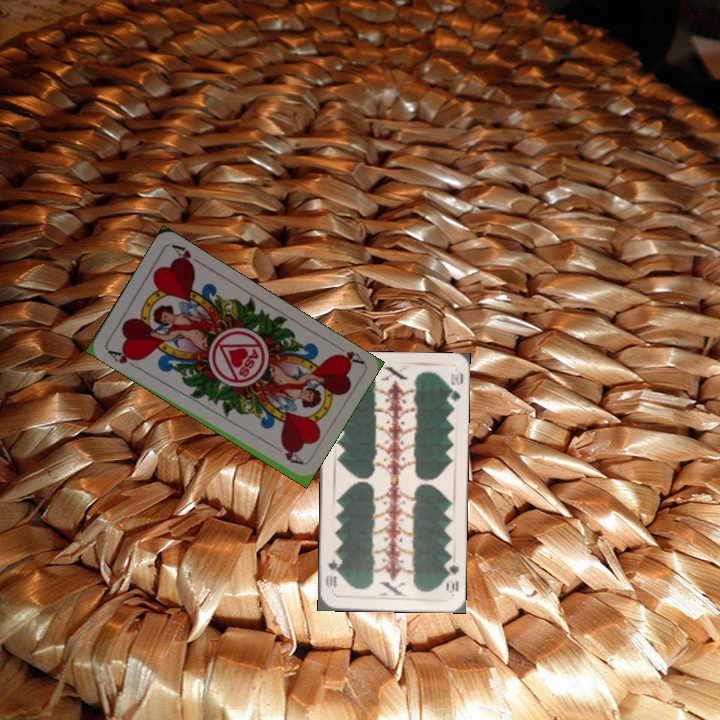G10: (442, 556, 461, 595)
HA: (329, 339, 366, 368), (103, 346, 141, 371)
